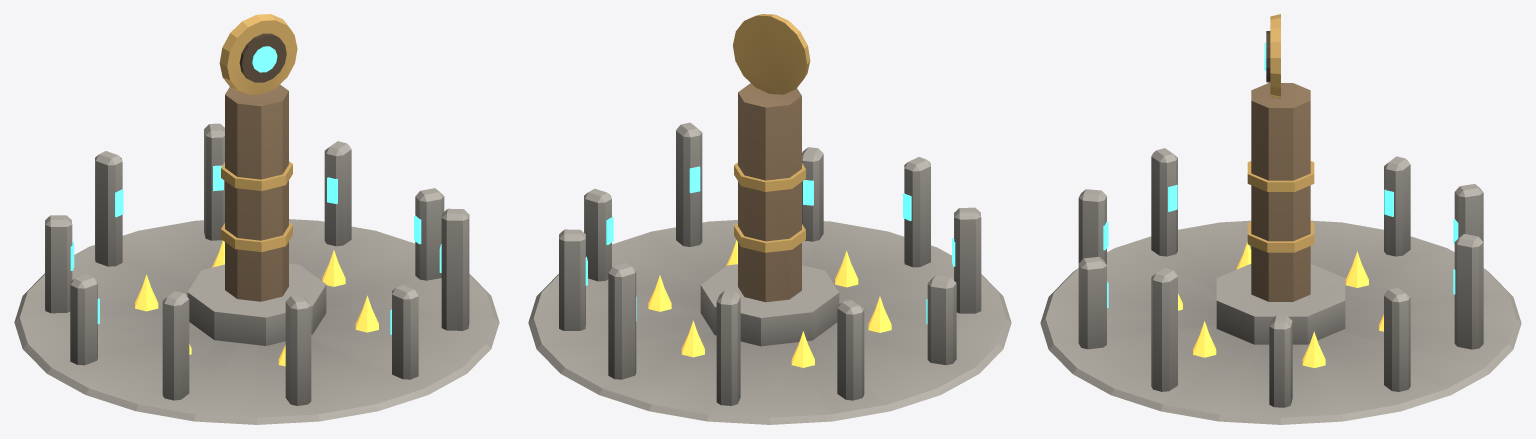
Rendered from bld_kapishe.glb.
The picture shows the model from 3 angles, left to right: view 1: azimuth 30°, elevation 25°; view 2: azimuth 150°, elevation 25°; view 3: azimuth 270°, elevation 25°; orthographic projection.
Visible parts, largest first — view 1: kapishe; view 2: kapishe; view 3: kapishe.
Boxes of the visible parts, x1,y1,x2,y2 form: kapishe: (14,14,499,424); kapishe: (528,14,1011,424); kapishe: (1040,14,1521,424).
Bounding box in the file's own units: 1.8 × 1.26 × 1.8.
